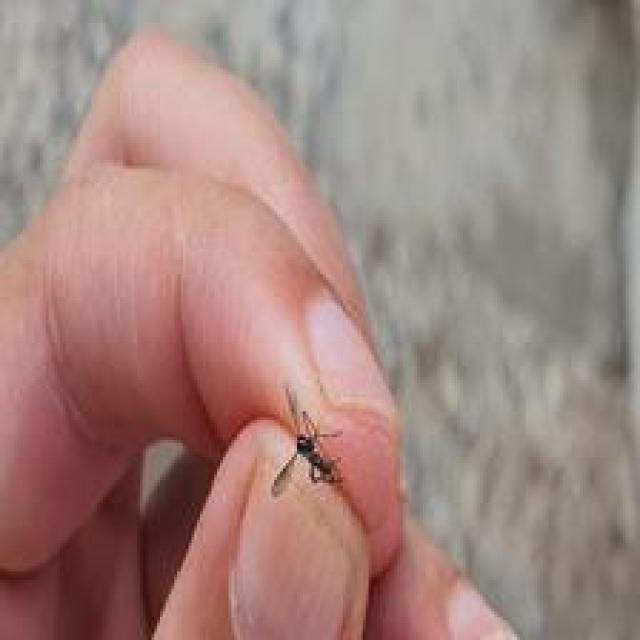Aedes albopictus: (268, 384, 346, 499)
